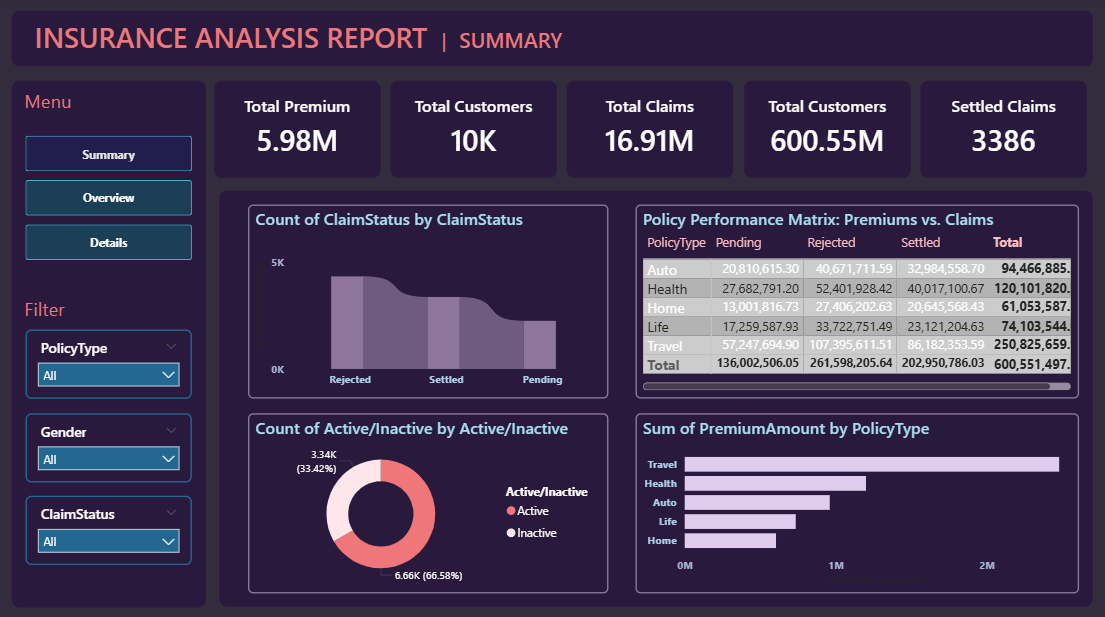

This screenshot's page, from the dashboard's own definition file:
{"tool":"powerbi","page":{"name":"Summary","canvas":[1280,720],"ordinal":0},"visuals":[{"type":"textbox","box":[16,16,1248,64],"z":0},{"type":"textbox","box":[16,96,224,608],"z":1000},{"type":"textbox","box":[248.9,96,192,112],"z":2000,"group":"g1"},{"type":"textbox","box":[452.9,96,192,112],"z":2000,"group":"g2"},{"type":"textbox","box":[656.9,96,192,112],"z":2000,"group":"g3"},{"type":"textbox","box":[860.9,96,192,112],"z":2000,"group":"g4"},{"type":"textbox","box":[1064.9,96,192,112],"z":2000,"group":"g5"},{"type":"slicer","fields":{"Values":["InsuranceData.PolicyType"]},"box":[32,384,192,80],"z":2000},{"type":"slicer","fields":{"Values":["InsuranceData.Age Group"]},"box":[32,480,192,80],"z":3000},{"type":"slicer","fields":{"Values":["InsuranceData.ClaimStatus"]},"box":[32,576,192,80],"z":4000},{"type":"group","id":"g1","title":"Group 2","box":[248.9,96,192,112],"z":5000},{"type":"card","title":"Total Premium","fields":{"Values":["Sum(InsuranceData.PremiumAmount)"]},"box":[264.9,112,160,80],"z":5001,"group":"g1"},{"type":"card","title":"Total Customers","fields":{"Values":["InsuranceData.Total Customers"]},"box":[468.9,112,160,80],"z":5001,"group":"g2"},{"type":"card","title":"Total Claims","fields":{"Values":["Sum(InsuranceData.ClaimAmount)"]},"box":[672.9,112,160,80],"z":5001,"group":"g3"},{"type":"card","title":"Total Customers","fields":{"Values":["Sum(InsuranceData.CoverageAmount)"]},"box":[876.9,112,160,80],"z":5001,"group":"g4"},{"type":"card","title":"Settled Claims","fields":{"Values":["InsuranceData.Settled Claims"]},"box":[1080.9,112,160,80],"z":5001,"group":"g5"},{"type":"group","id":"g2","title":"Group 3","box":[452.9,96,192,112],"z":6000},{"type":"group","id":"g3","title":"Group 4","box":[656.9,96,192,112],"z":7000},{"type":"group","id":"g4","title":"Group 5","box":[860.9,96,192,112],"z":8000},{"type":"group","id":"g5","title":"Group 1","box":[1064.9,96,176,112],"z":9000},{"type":"textbox","box":[256,224,1008,480],"z":10000},{"type":"ribbonChart","fields":{"Category":["InsuranceData.ClaimStatus"],"Y":["CountNonNull(InsuranceData.ClaimStatus)"]},"box":[288,240,416,224],"z":11000},{"type":"donutChart","fields":{"Category":["InsuranceData.Active/Inactive"],"Y":["CountNonNull(InsuranceData.Active/Inactive)"]},"box":[288,480,416,208],"z":12000},{"type":"pivotTable","title":"Policy Performance Matrix: Premiums vs. Claims","fields":{"Rows":["InsuranceData.PolicyType"],"Columns":["InsuranceData.ClaimStatus"],"Values":["Sum(InsuranceData.CoverageAmount)"]},"box":[736,240,512,224],"z":13000},{"type":"barChart","fields":{"Category":["InsuranceData.PolicyType"],"Y":["Sum(InsuranceData.PremiumAmount)"]},"box":[736,480,512,208],"z":14000},{"type":"pageNavigator","box":[32,160,192,144],"z":15000}]}

Visuals, with their boxes in screenshot pixels (x1, y1, x2, y2), scaled from the page's 1280x720 canvas onto the 1105x617 screenshot:
textbox: <box>14,14,1091,69</box>
textbox: <box>14,82,207,603</box>
textbox: <box>215,82,381,178</box>
textbox: <box>391,82,557,178</box>
textbox: <box>567,82,733,178</box>
textbox: <box>743,82,909,178</box>
textbox: <box>919,82,1085,178</box>
slicer - InsuranceData.PolicyType: <box>28,329,193,398</box>
slicer - InsuranceData.Age Group: <box>28,411,193,480</box>
slicer - InsuranceData.ClaimStatus: <box>28,494,193,562</box>
"Group 2" group: <box>215,82,381,178</box>
"Total Premium" card: <box>229,96,367,165</box>
"Total Customers" card: <box>405,96,543,165</box>
"Total Claims" card: <box>581,96,719,165</box>
"Total Customers" card: <box>757,96,895,165</box>
"Settled Claims" card: <box>933,96,1071,165</box>
"Group 3" group: <box>391,82,557,178</box>
"Group 4" group: <box>567,82,733,178</box>
"Group 5" group: <box>743,82,909,178</box>
"Group 1" group: <box>919,82,1071,178</box>
textbox: <box>221,192,1091,603</box>
ribbonChart - InsuranceData.ClaimStatus x CountNonNull(InsuranceData.ClaimStatus): <box>249,206,608,398</box>
donutChart - InsuranceData.Active/Inactive x CountNonNull(InsuranceData.Active/Inactive): <box>249,411,608,590</box>
"Policy Performance Matrix: Premiums vs. Claims" pivotTable: <box>635,206,1077,398</box>
barChart - InsuranceData.PolicyType x Sum(InsuranceData.PremiumAmount): <box>635,411,1077,590</box>
pageNavigator: <box>28,137,193,261</box>
